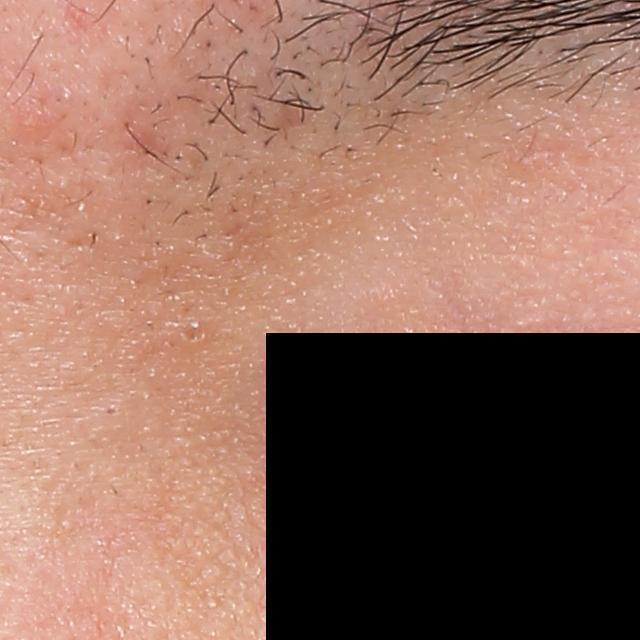comedo: (180, 315, 205, 348), (101, 404, 120, 418)
